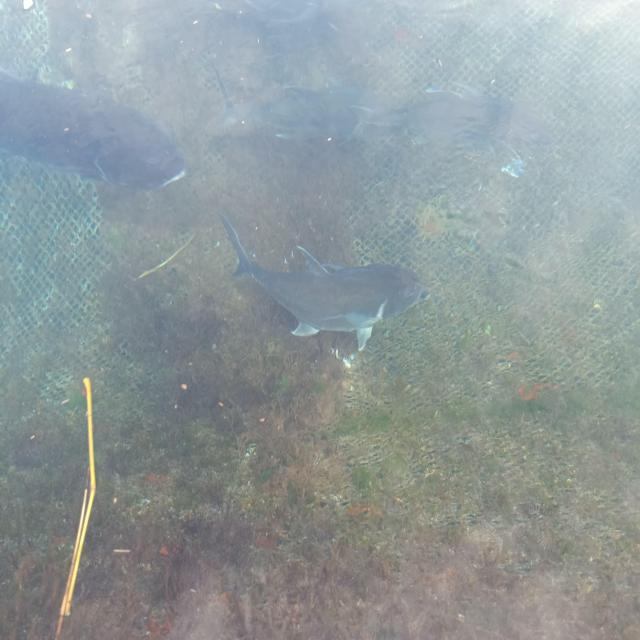ikan: (217, 211, 430, 353)
